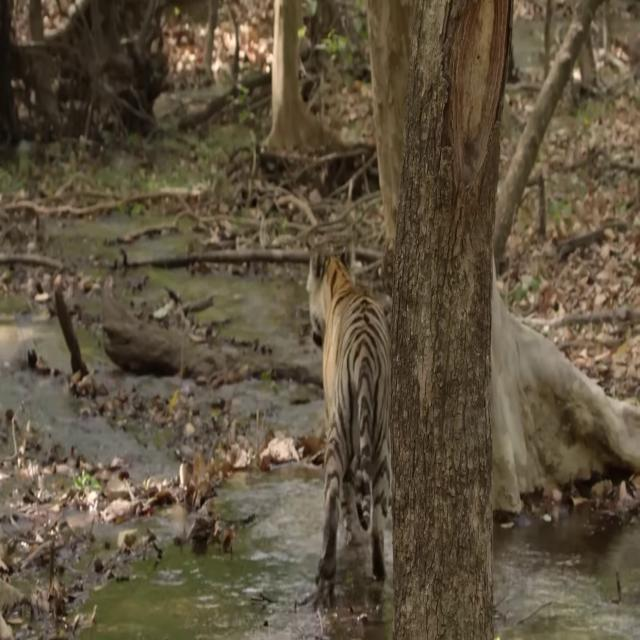tiger: (306, 237, 392, 594)
